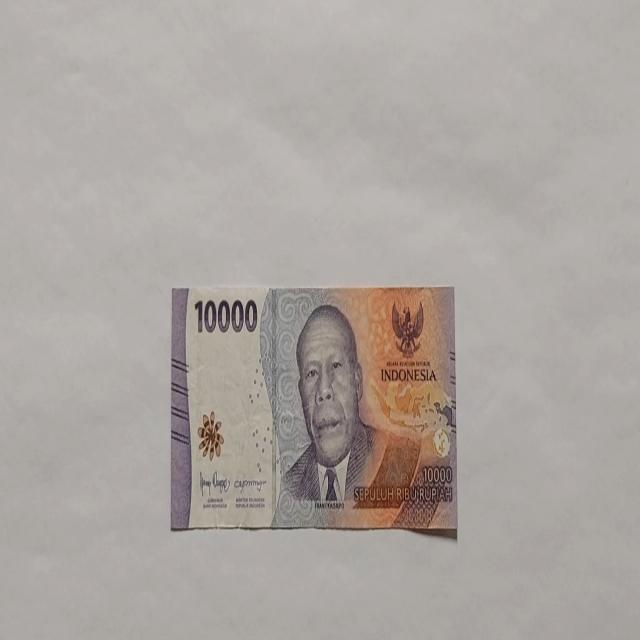sepuluh ribu rupiah: (170, 282, 458, 534), (269, 301, 421, 529)
